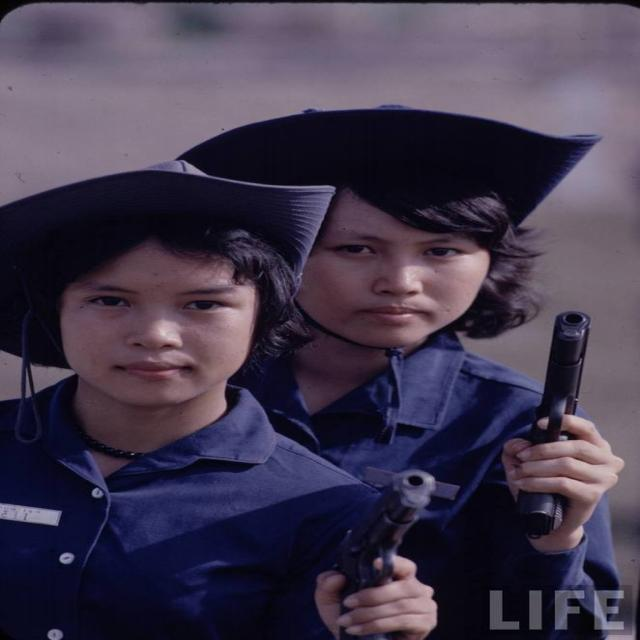weapon: (323, 470, 435, 640), (513, 310, 594, 542)
